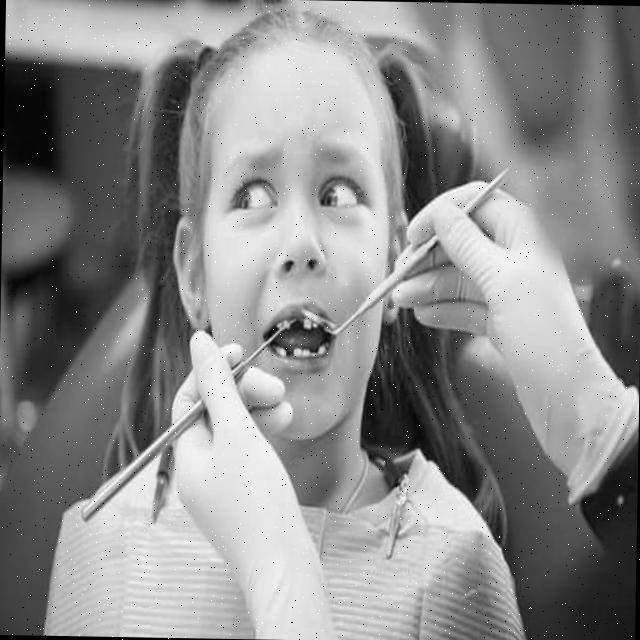Fear: (200, 49, 388, 444)
